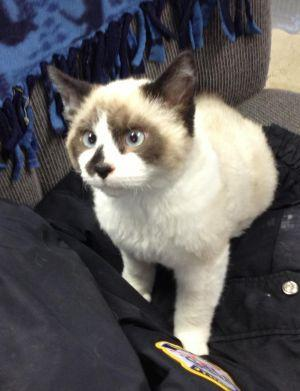ragdoll: (53, 39, 197, 214)
